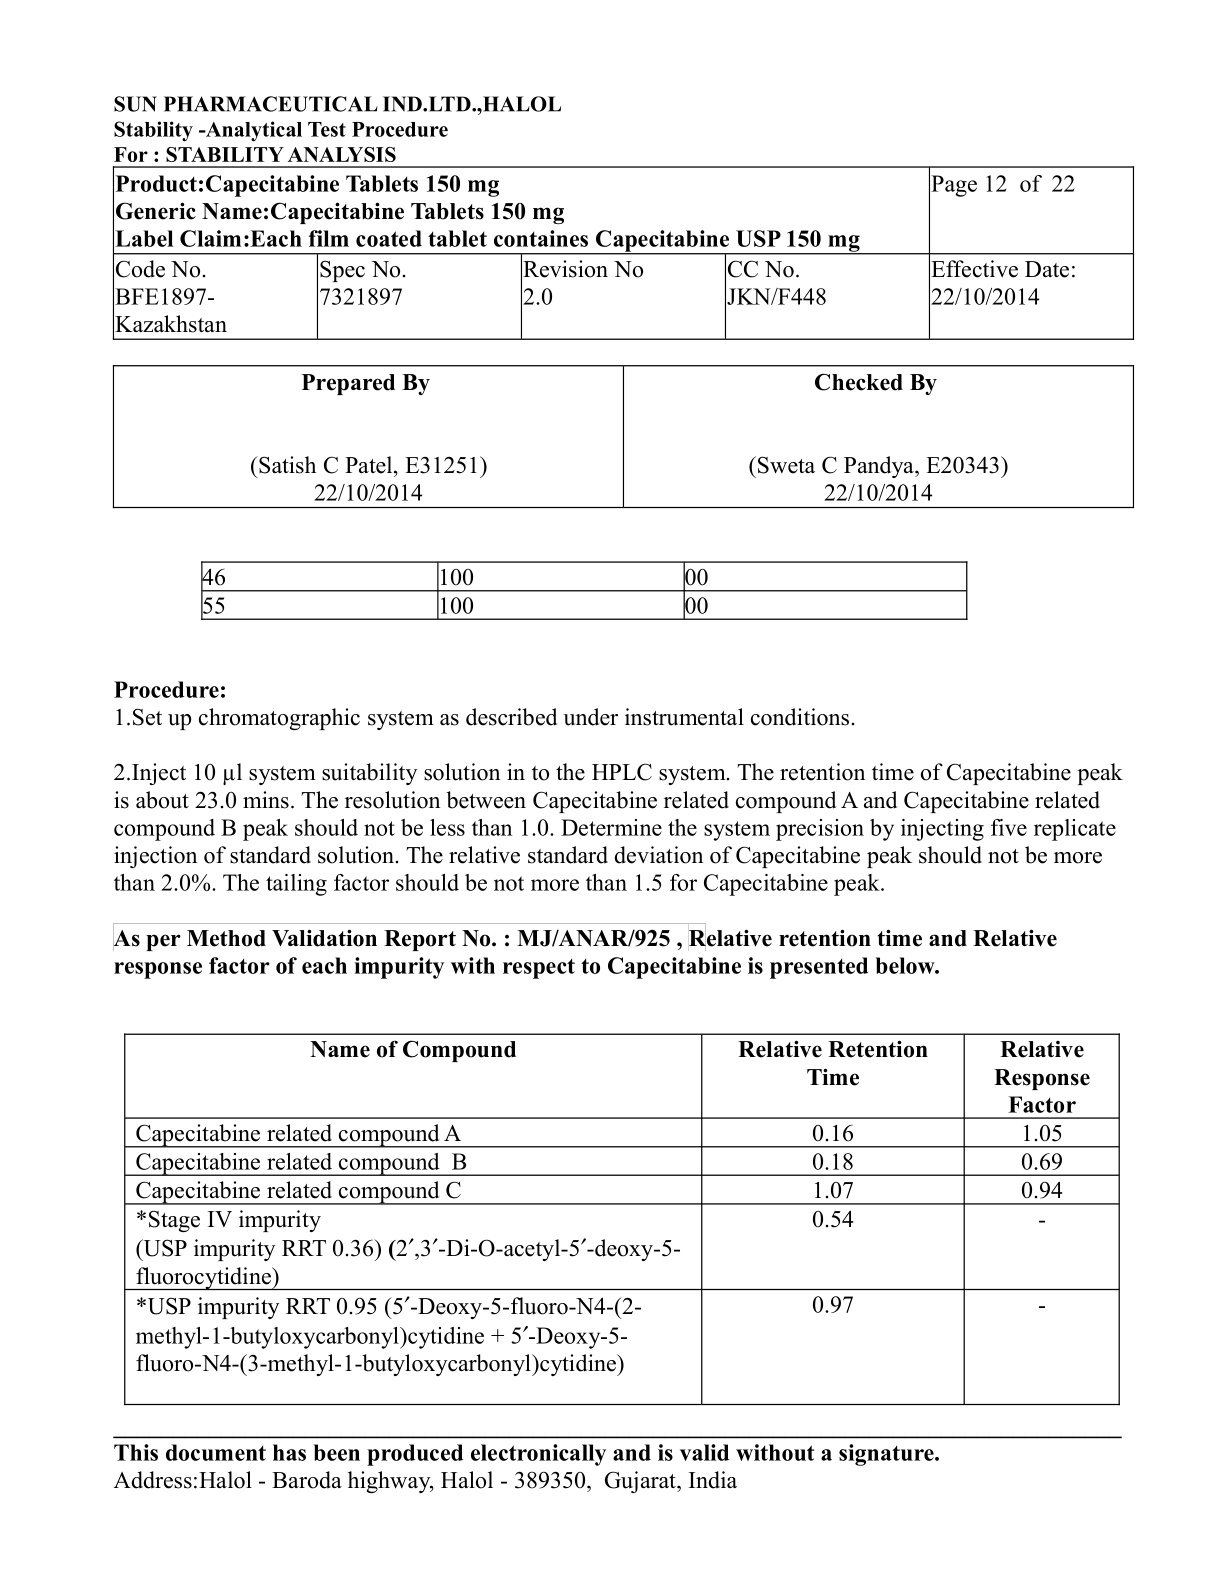full_lined: (123, 1031, 1122, 1407), (112, 364, 1135, 510), (201, 561, 969, 621)
merged_cells: (112, 165, 1135, 341)
